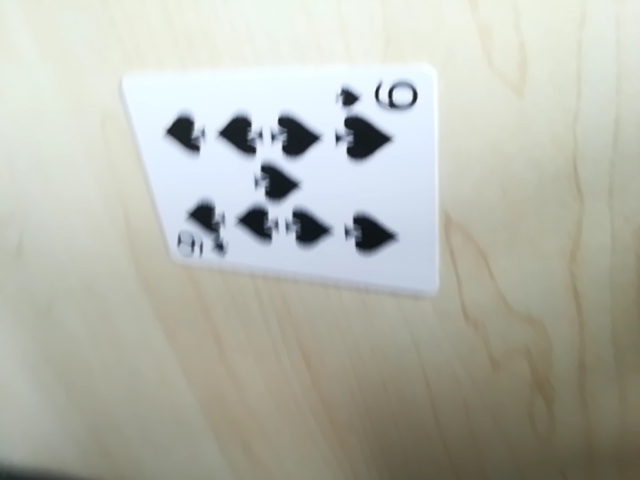ht 9: (338, 74, 423, 116), (170, 228, 221, 263)
